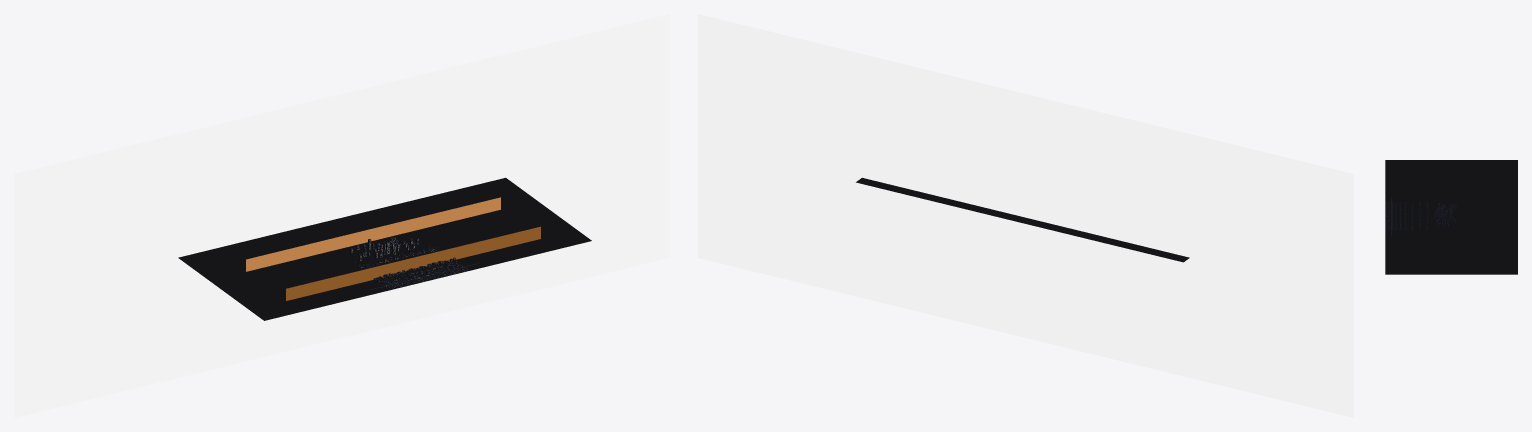
The model's file is sakina-room-v3.glb.
3 renders of one model, left to right at view 1: azimuth 30°, elevation 25°; view 2: azimuth 150°, elevation 25°; view 3: azimuth 270°, elevation 25°, orthographic. The views are drawn at different scales.
Visible parts, largest first — view 1: Sky, Ground, HazeFar, HazeNear, City_Midrise, Houston_Skyline; view 2: Sky, Ground; view 3: Ground, City_Midrise, Houston_Skyline.
Boxes of the visible parts, <box> form: Sky: <box>14,14,669,417</box>; Ground: <box>178,177,591,320</box>; HazeFar: <box>246,197,500,271</box>; HazeNear: <box>286,226,540,300</box>; City_Midrise: <box>358,247,469,289</box>; Houston_Skyline: <box>350,237,418,260</box>; Sky: <box>698,14,1353,417</box>; Ground: <box>856,177,1189,262</box>; Ground: <box>1385,160,1517,274</box>; City_Midrise: <box>1385,201,1428,231</box>; Houston_Skyline: <box>1434,203,1456,227</box>.
Bounding box in the file's own units: 18000 × 6400 × 4504.
